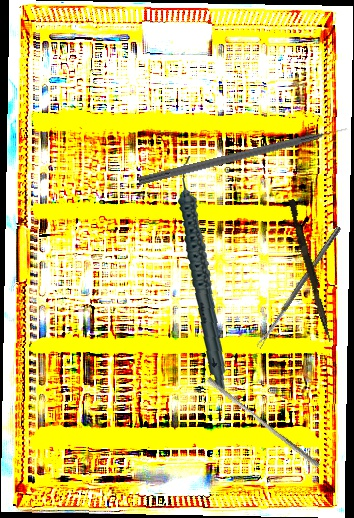Handpiece: (165, 155, 241, 389)
Hook Surgical: (137, 125, 350, 188)
Pusher: (203, 376, 324, 469), (284, 198, 338, 344)
Surgical Spoon: (255, 225, 342, 349)
